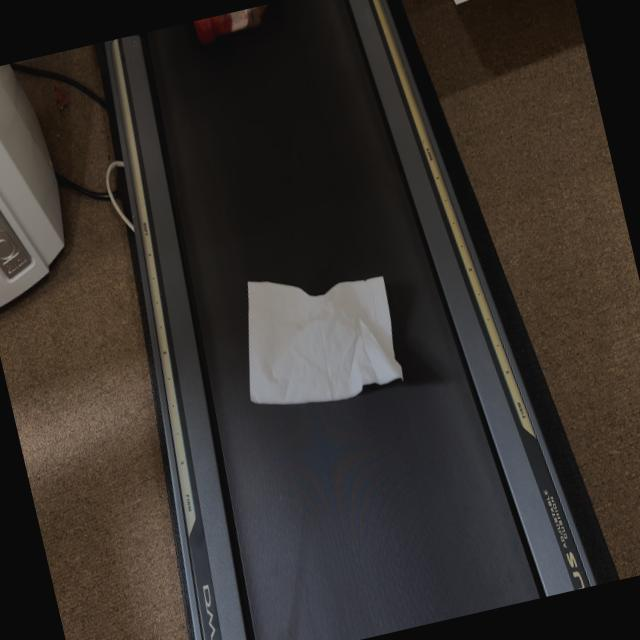Recycle: (222, 250, 408, 420)
